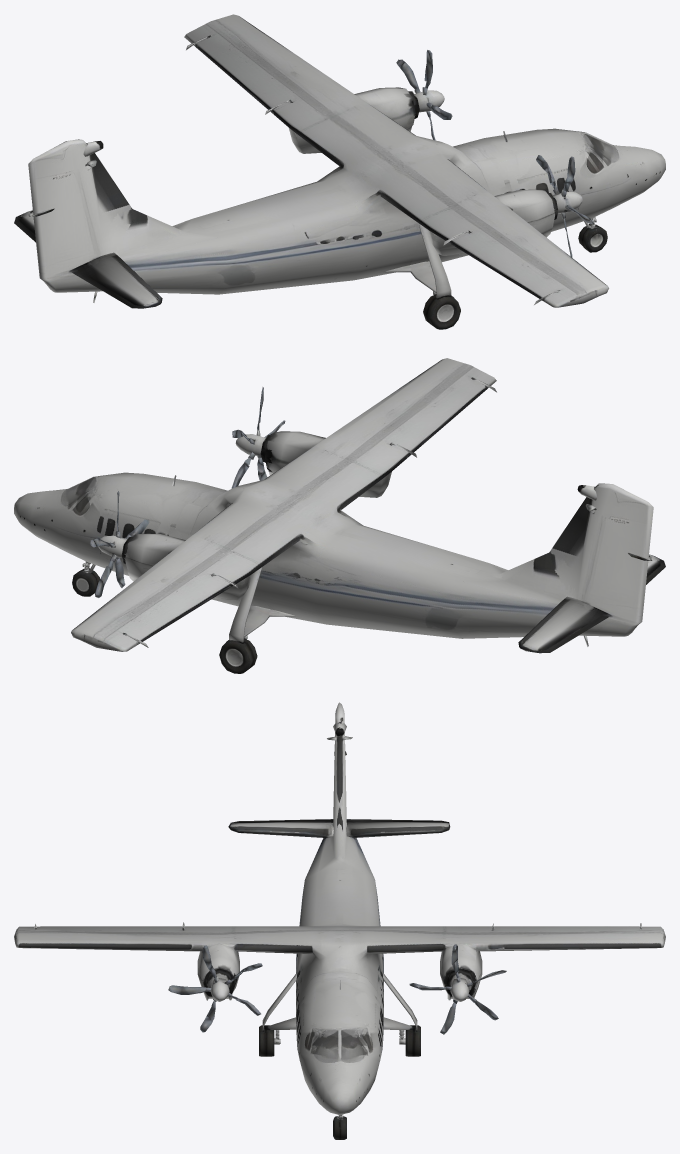
Rendered from twin.glb.
3 renders of one model, top to bottom at view 1: azimuth 30°, elevation 25°; view 2: azimuth 150°, elevation 25°; view 3: azimuth 270°, elevation 25°, orthographic. The views are drawn at different scales.
Visible parts, largest first — view 1: tripo_node_0f47902c-27c8-4ce3-b427-3dcd8d08ea3f; view 2: tripo_node_0f47902c-27c8-4ce3-b427-3dcd8d08ea3f; view 3: tripo_node_0f47902c-27c8-4ce3-b427-3dcd8d08ea3f.
Boxes of the visible parts, left/top/right/bottom form: tripo_node_0f47902c-27c8-4ce3-b427-3dcd8d08ea3f: left=14, top=14, right=665, bottom=329; tripo_node_0f47902c-27c8-4ce3-b427-3dcd8d08ea3f: left=14, top=358, right=665, bottom=673; tripo_node_0f47902c-27c8-4ce3-b427-3dcd8d08ea3f: left=14, top=702, right=665, bottom=1139.
Size of the model in its own units: 0.9785 by 0.3496 by 0.998.
1 material, 1 textured.
